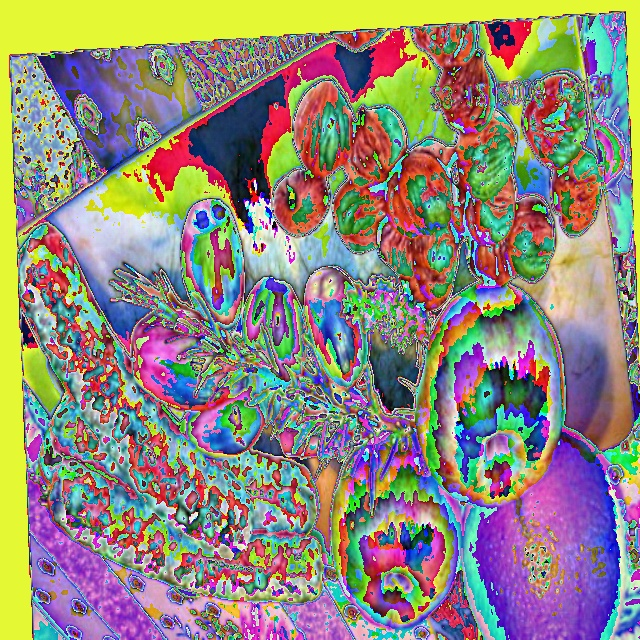background: (242, 267, 628, 639), (18, 220, 322, 606), (65, 133, 243, 331)
